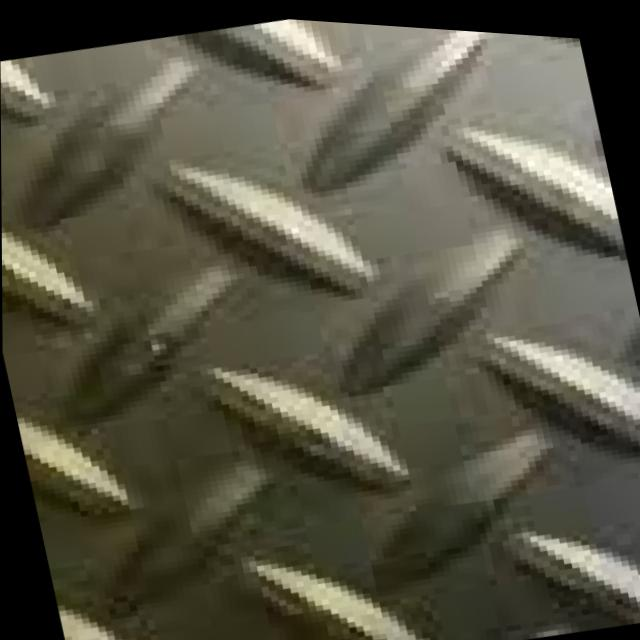metal-plates: (1, 16, 640, 640)
